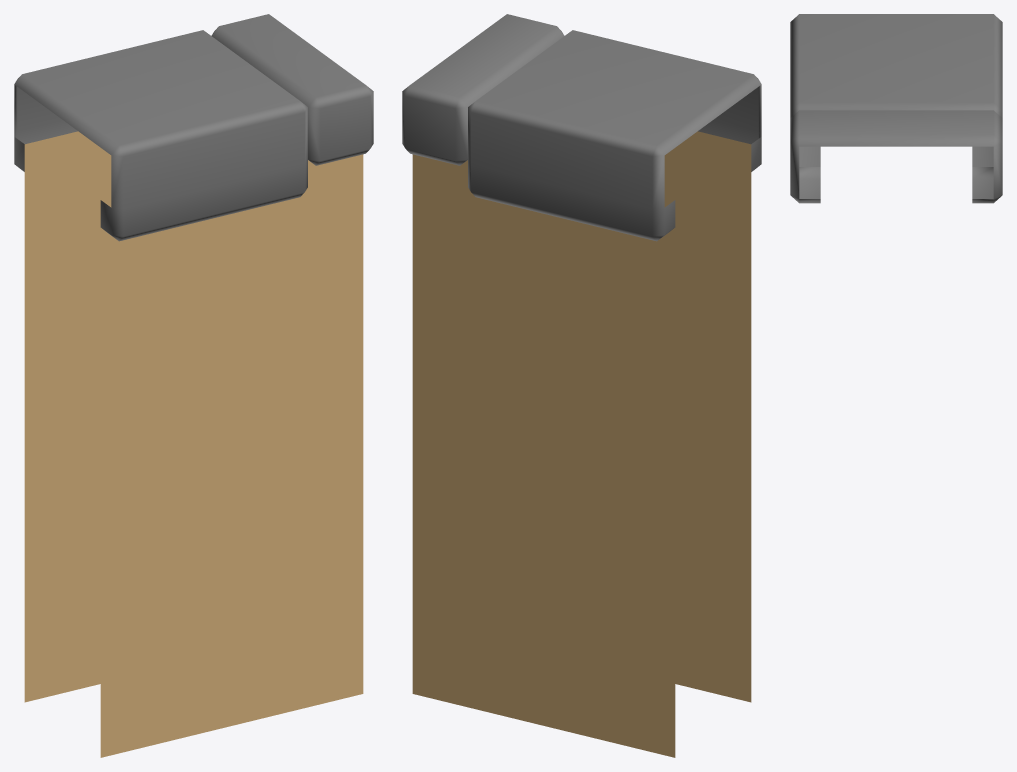
Rendered from SM_WallA_2x4_LOD0.fbx.
The picture shows the model from 3 angles, left to right: view 1: azimuth 30°, elevation 25°; view 2: azimuth 150°, elevation 25°; view 3: azimuth 270°, elevation 25°; orthographic projection.
Parts seen in each view (by area): view 1: SM_WallA_2x4_LOD0; view 2: SM_WallA_2x4_LOD0; view 3: SM_WallA_2x4_LOD0.
Boxes of the visible parts, box(x1,y1,x2,y2) form: SM_WallA_2x4_LOD0: box(14, 14, 373, 757); SM_WallA_2x4_LOD0: box(402, 14, 761, 757); SM_WallA_2x4_LOD0: box(790, 14, 1002, 203).
Size of the model in its own units: 2 by 4.5 by 1.4.
